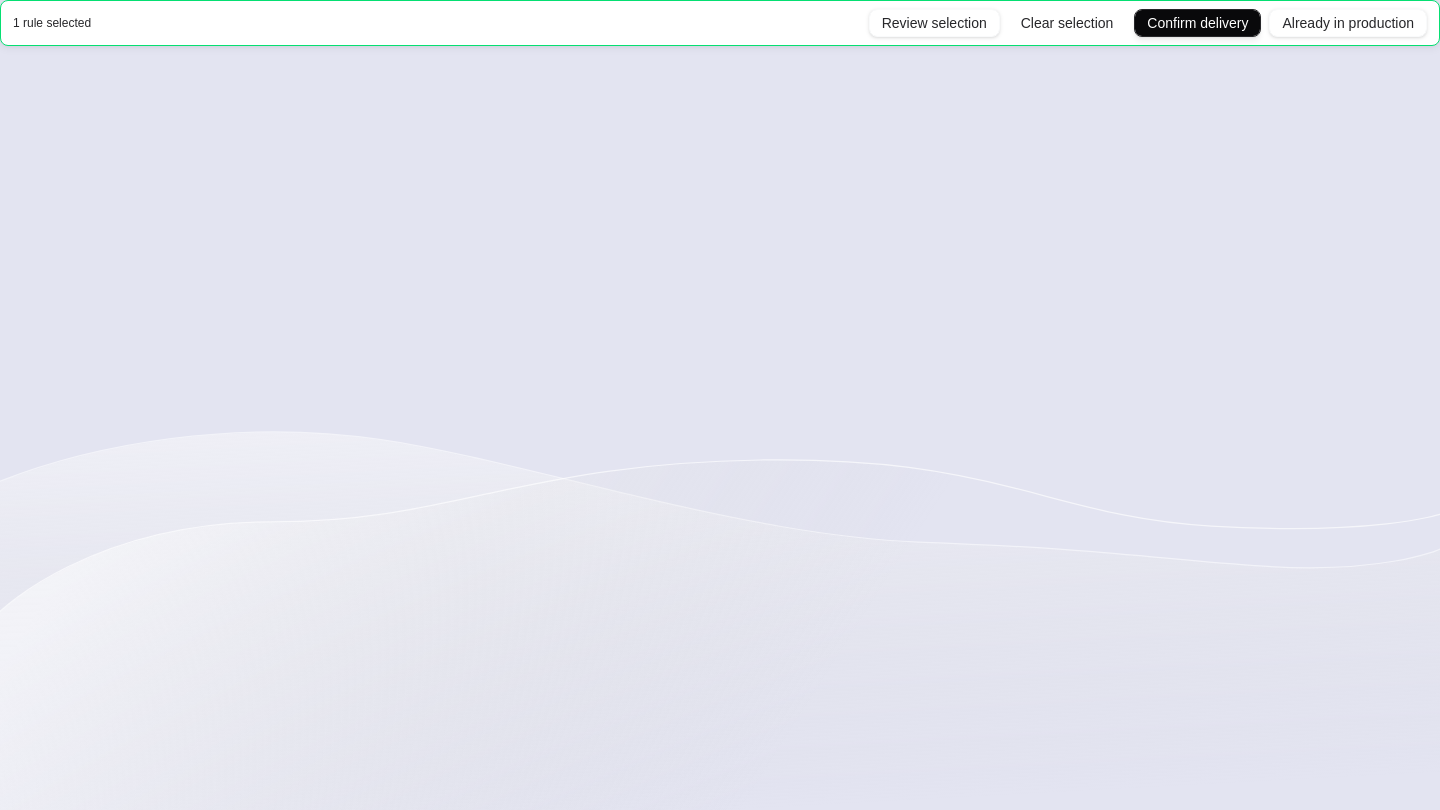
Test: Intent delivery UI › renders readable shared details inside a chevron disclosure
The image size is (1440, 810).
Click the button "Confirm delivery" at coordinates (1198, 23), box 1134,9 -> 1261,37
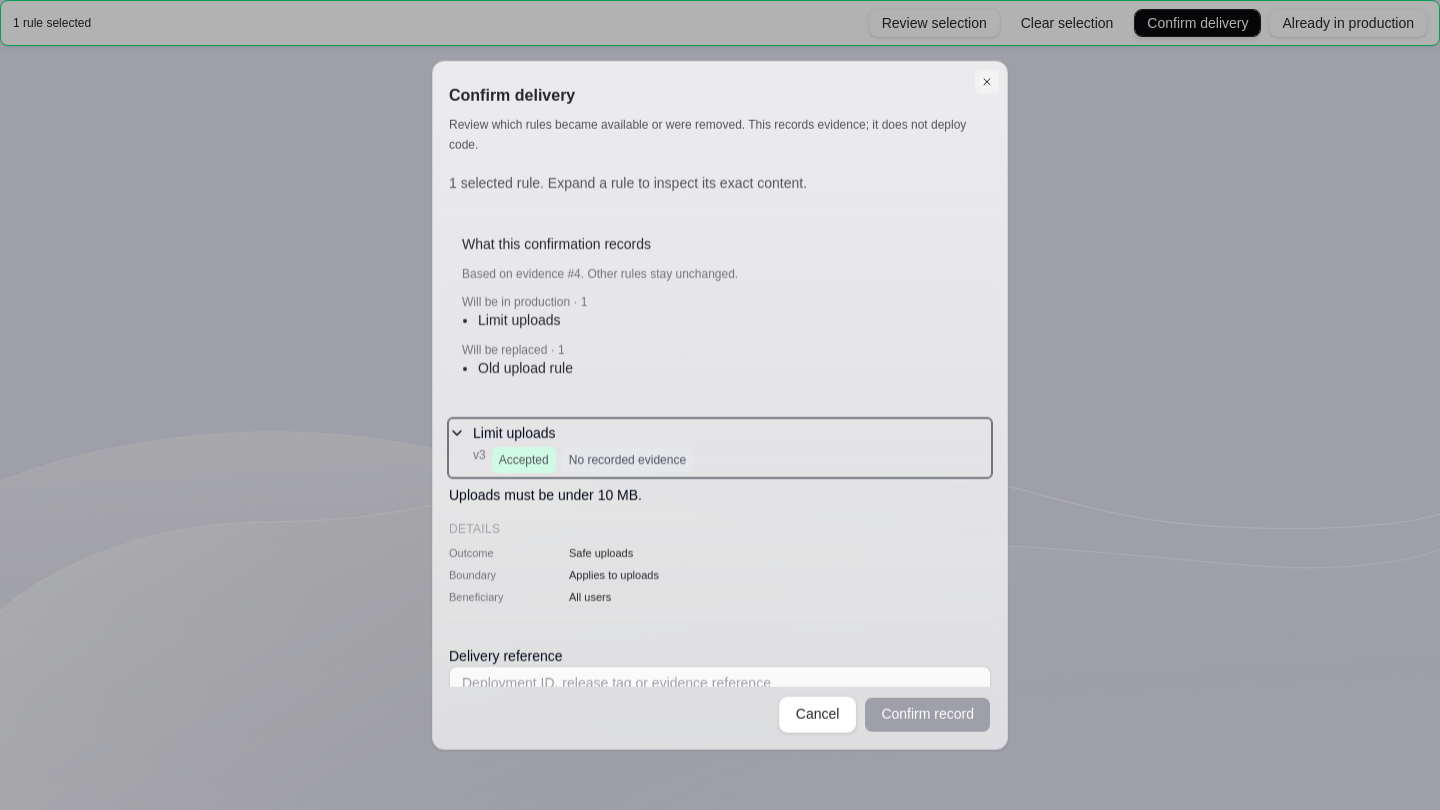
Expected: the dialog is shown, 432,61 -> 1008,749
Expected: the icon below "Old upload rule" is shown, 449,425 -> 465,441
Expected: the text "Outcome" is shown, 449,547 -> 494,559
